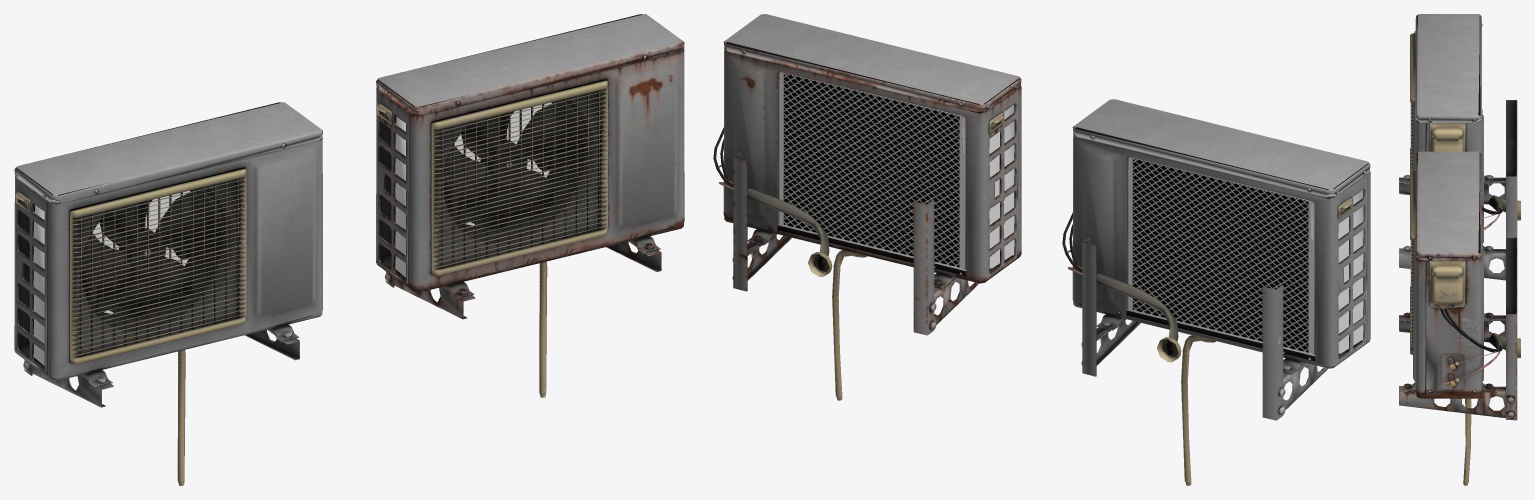
File: exterior_aircon_unit.glb
3 renders of one model, left to right at view 1: azimuth 30°, elevation 25°; view 2: azimuth 150°, elevation 25°; view 3: azimuth 270°, elevation 25°, orthographic. The views are drawn at different scales.
Visible parts, largest first — view 1: exterior_aircon_unit_rusted, exterior_aircon_unit; view 2: exterior_aircon_unit_rusted, exterior_aircon_unit; view 3: exterior_aircon_unit_rusted, exterior_aircon_unit.
Part boxes in pixels (x1,y1,x2,y2): exterior_aircon_unit_rusted: [376, 14, 684, 397]; exterior_aircon_unit: [14, 102, 322, 485]; exterior_aircon_unit_rusted: [713, 14, 1021, 400]; exterior_aircon_unit: [1062, 99, 1370, 485]; exterior_aircon_unit_rusted: [1399, 151, 1520, 485]; exterior_aircon_unit: [1399, 14, 1520, 280].
Bounding box in the file's own units: 1.8 × 0.9279 × 0.3742.
Materials: 4 (4 with a texture image).
